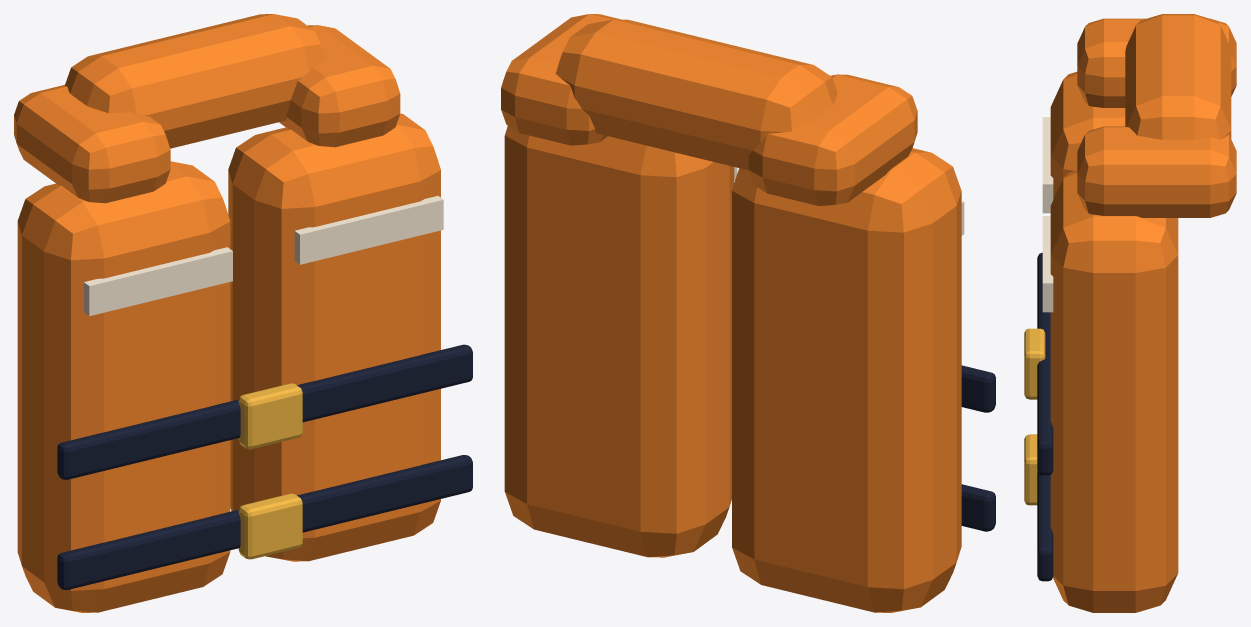
Rendered from life_jacket.glb.
3 views of the same model, side by side, from view 1: azimuth 30°, elevation 25°; view 2: azimuth 150°, elevation 25°; view 3: azimuth 270°, elevation 25° (orthographic). The views are drawn at different scales.
Visible parts, largest first — view 1: panel-1, panel1, collar, strap0, strap1, shoulder-1, shoulder1, refl1, refl-1, buckle1, buckle0; view 2: panel-1, panel1, collar, shoulder-1, shoulder1, strap1, strap0; view 3: panel1, shoulder1, collar, shoulder-1, panel-1, strap0, strap1, buckle0, buckle1, refl1, refl-1.
Part boxes in pixels (bbox=[...]): panel-1: bbox=[17, 161, 230, 612]; panel1: bbox=[228, 113, 440, 561]; collar: bbox=[64, 14, 325, 148]; strap0: bbox=[57, 344, 472, 479]; strap1: bbox=[57, 455, 472, 589]; shoulder-1: bbox=[14, 85, 170, 203]; shoulder1: bbox=[279, 25, 400, 147]; refl1: bbox=[294, 196, 443, 264]; refl-1: bbox=[84, 247, 232, 316]; buckle1: bbox=[238, 493, 302, 559]; buckle0: bbox=[238, 383, 302, 449]; panel-1: bbox=[732, 148, 961, 612]; panel1: bbox=[504, 126, 734, 557]; collar: bbox=[555, 19, 837, 170]; shoulder-1: bbox=[748, 74, 917, 206]; shoulder1: bbox=[501, 14, 621, 145]; strap1: bbox=[961, 484, 995, 531]; strap0: bbox=[961, 365, 995, 412]; panel1: bbox=[1050, 170, 1178, 612]; shoulder1: bbox=[1077, 126, 1236, 217]; collar: bbox=[1125, 14, 1231, 139]; shoulder-1: bbox=[1077, 18, 1236, 107]; panel-1: bbox=[1050, 72, 1125, 199]; strap0: bbox=[1037, 252, 1053, 475]; strap1: bbox=[1037, 471, 1053, 581]; buckle0: bbox=[1024, 328, 1045, 399]; buckle1: bbox=[1024, 434, 1037, 505]; refl1: bbox=[1042, 216, 1053, 312]; refl-1: bbox=[1042, 117, 1053, 213].
Bounding box in the file's own units: 0.86 × 1 × 0.4.
